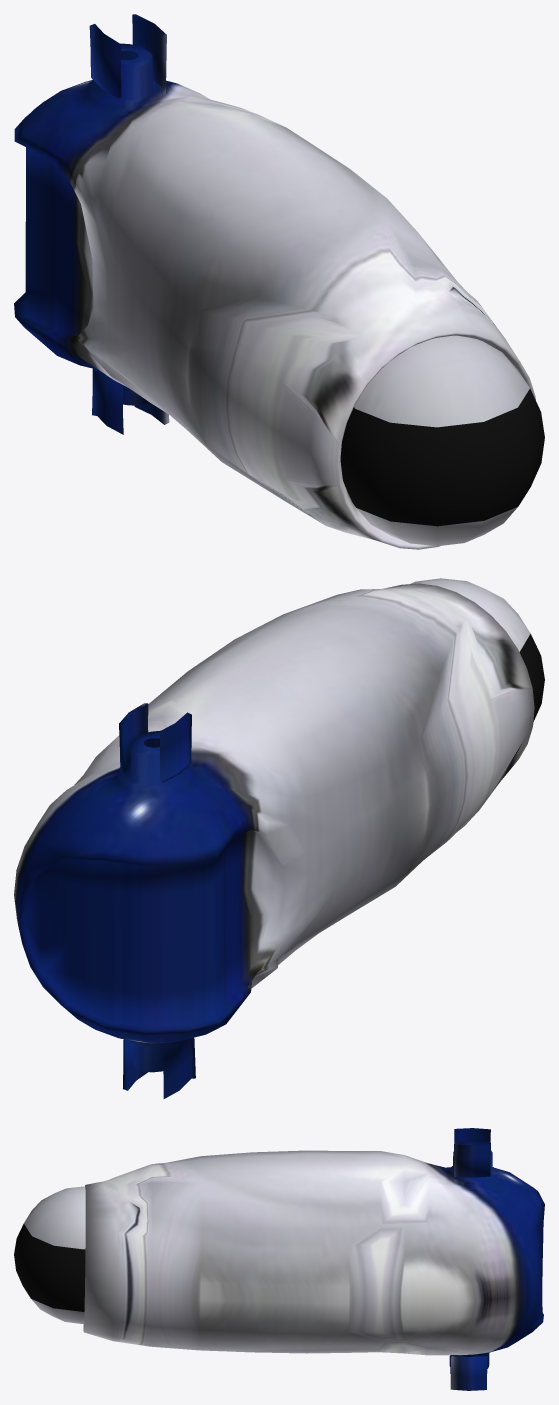
Rendered from biceps.obj.
3 views of the same model, one above another, from view 1: azimuth 30°, elevation 25°; view 2: azimuth 150°, elevation 25°; view 3: azimuth 270°, elevation 25° (orthographic). The views are drawn at different scales.
Visible parts, largest first — view 1: Biceps_Chest.012; view 2: Biceps_Chest.012; view 3: Biceps_Chest.012.
Boxes of the visible parts, bbox=[...] form: Biceps_Chest.012: bbox=[14, 14, 544, 549]; Biceps_Chest.012: bbox=[14, 578, 544, 1098]; Biceps_Chest.012: bbox=[14, 1128, 544, 1390].
Size of the model in its own units: 0.504 by 0.7427 by 1.44.
